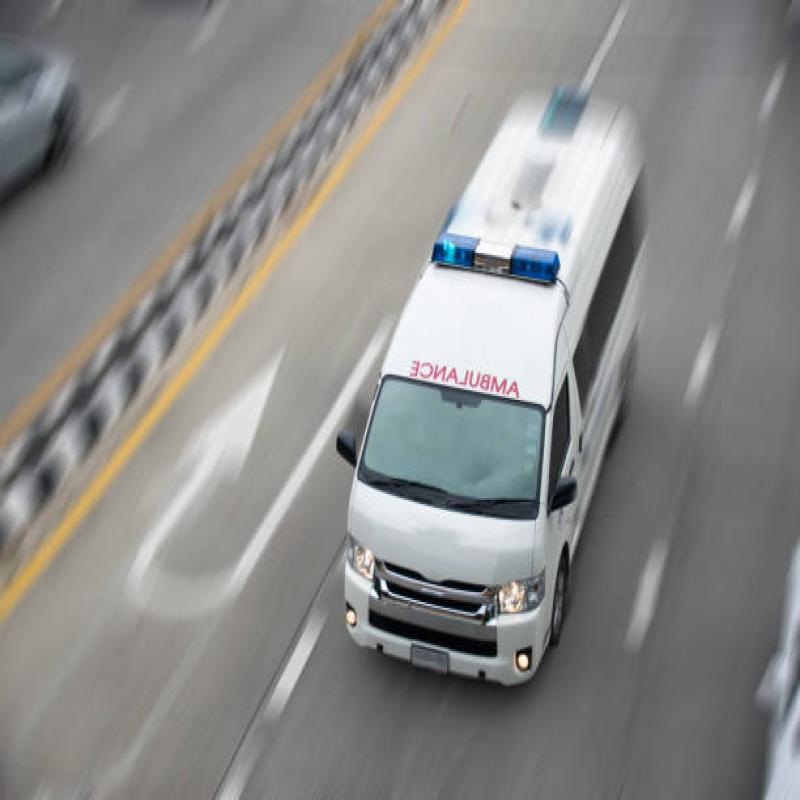AmbulanceSiren: (428, 193, 562, 304)
